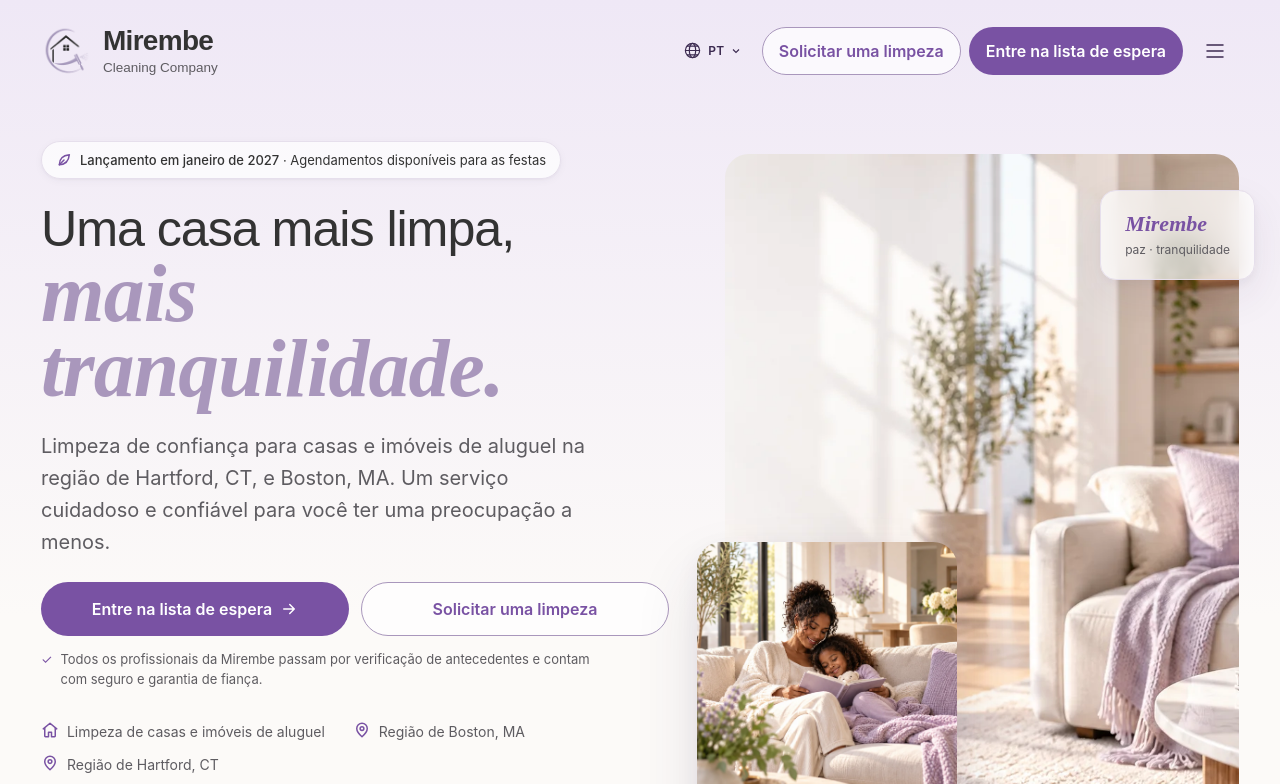
Test case: accessible language menu › groups the pt language utility, secondary booking and primary waitlist actions in order
The width and height of the screenshot is (1280, 784).
Expected: the text with class "language-active-code" reads "PT", x1=708 y1=43 x2=724 y2=58
Click the 1st button "Entre na lista de espera" at [1076, 50], box x1=969 y1=26 x2=1183 y2=74
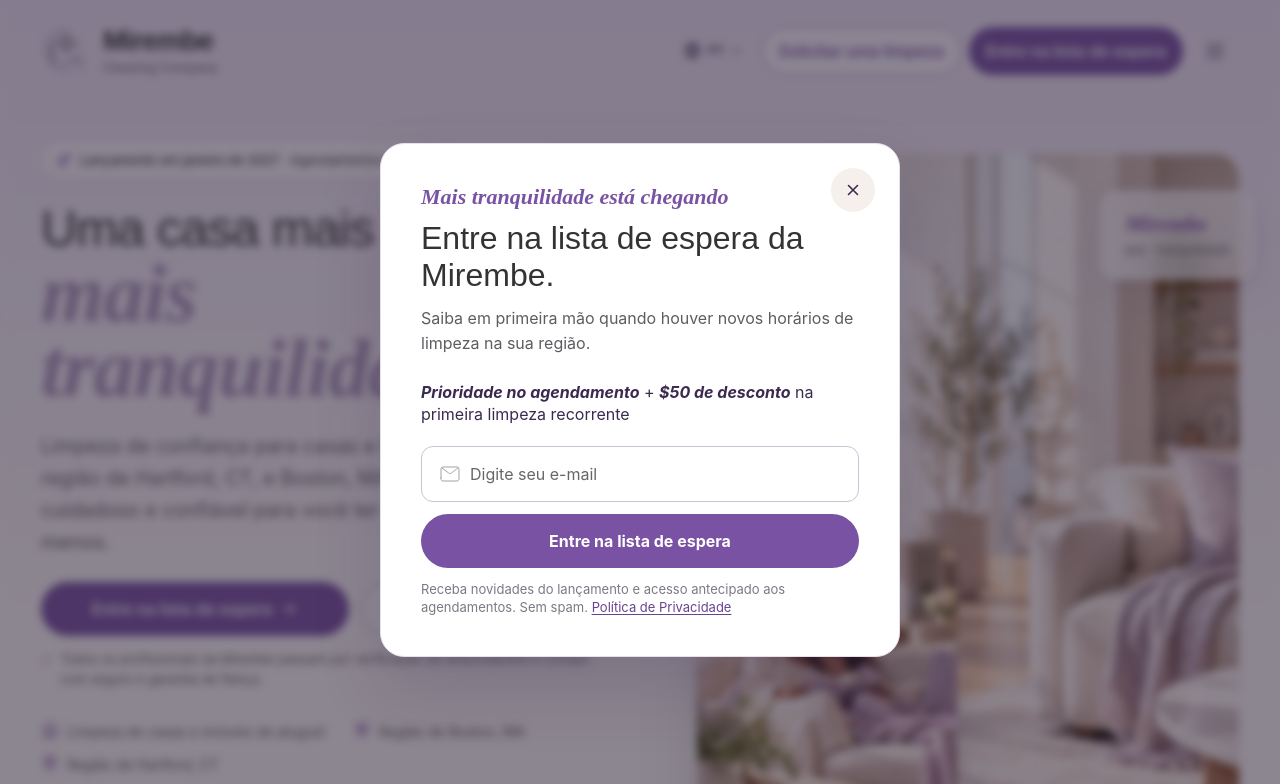
Now the dialog "Entre na lista de espera da Mirembe." is shown, box x1=380 y1=143 x2=900 y2=657
